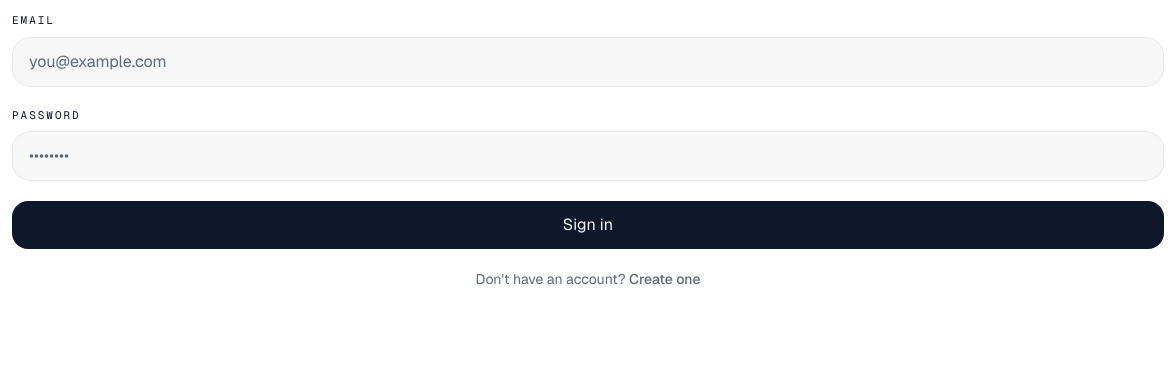
Scenario: LoginForm › shows an error message when login fails
Type "john@example.com" into the field with test id "email-input" at (588, 62), box [12, 36, 1164, 86]
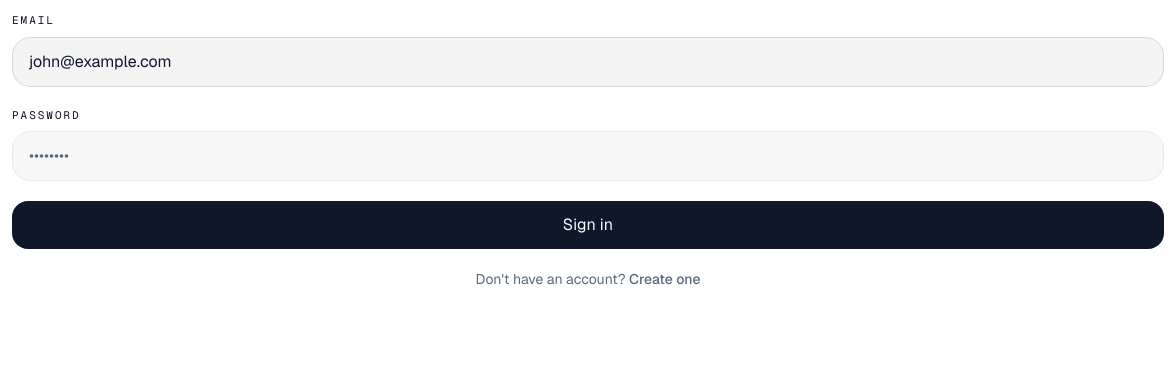
Type "wrongpassword" into the password field with test id "password-input" at (588, 156), box [12, 131, 1164, 181]
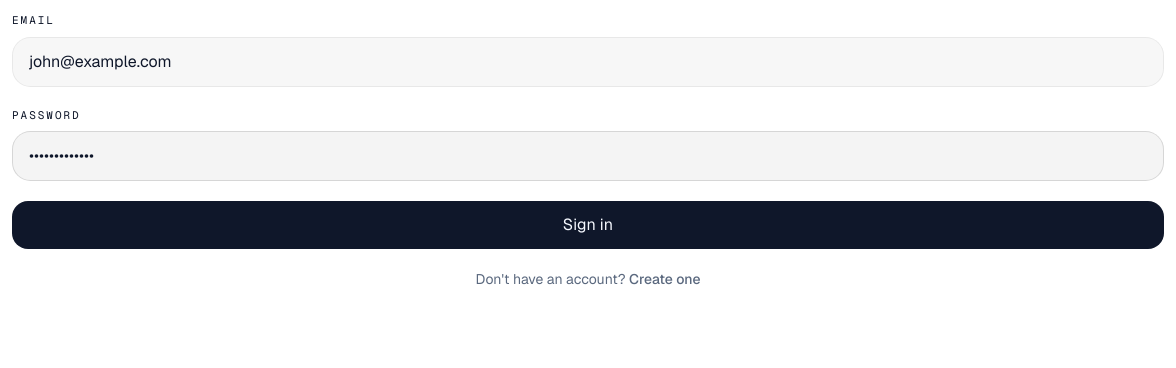
Click the button with test id "login-button" at (588, 225), box [12, 201, 1164, 249]
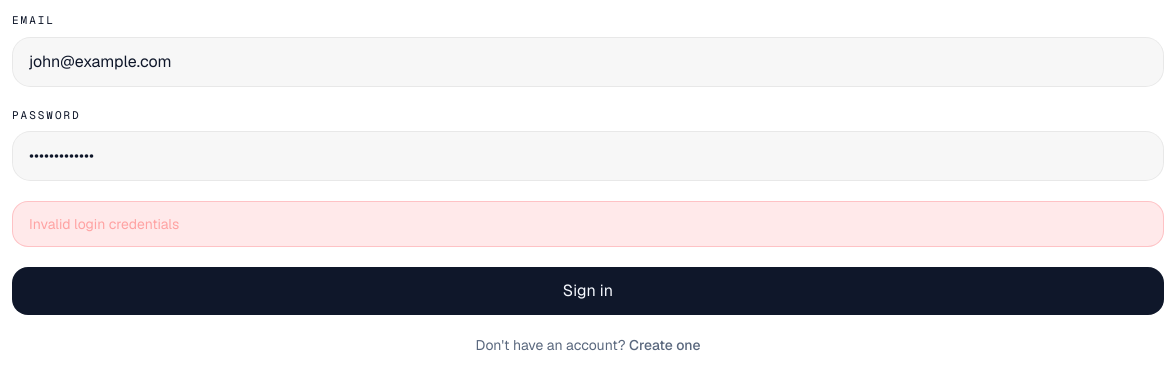
Check: the text "Invalid login credentials" is shown, box [12, 201, 1164, 247]
